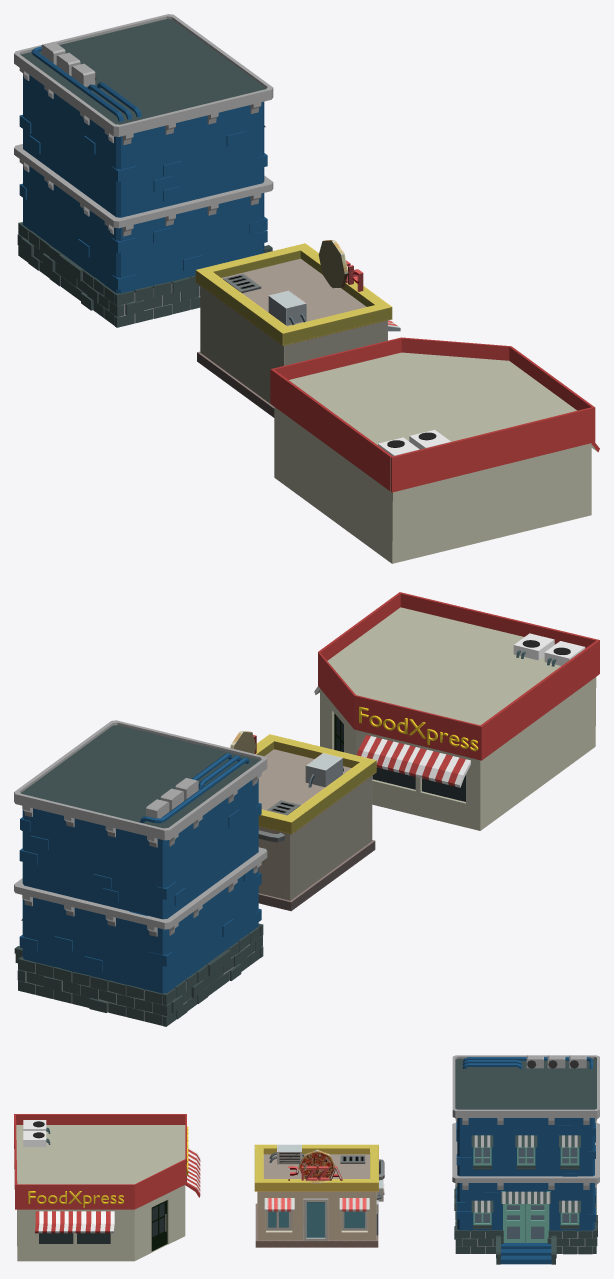
Rendered from Fastfood.fbx.
3 renders of one model, top to bottom at view 1: azimuth 30°, elevation 25°; view 2: azimuth 150°, elevation 25°; view 3: azimuth 270°, elevation 25°, orthographic. The views are drawn at different scales.
Visible parts, largest first — view 1: 2Story_Double_Mat_Cube.036, Cylinder.005, Object001; view 2: 2Story_Double_Mat_Cube.036, Cylinder.005, Object001, Text.007, Cube.013, Cube.007; view 3: 2Story_Double_Mat_Cube.036, Cylinder.005, Object001, Text.008, Cube.013.
Boxes of the visible parts, bbox=[...] form: 2Story_Double_Mat_Cube.036: bbox=[14, 14, 273, 327]; Cylinder.005: bbox=[270, 337, 599, 563]; Object001: bbox=[195, 240, 400, 417]; 2Story_Double_Mat_Cube.036: bbox=[14, 720, 267, 1026]; Cylinder.005: bbox=[314, 592, 599, 830]; Object001: bbox=[230, 731, 376, 911]; Text.007: bbox=[359, 706, 478, 751]; Cube.013: bbox=[513, 633, 554, 660]; Cube.007: bbox=[544, 641, 585, 666]; 2Story_Double_Mat_Cube.036: bbox=[452, 1055, 599, 1264]; Cylinder.005: bbox=[14, 1114, 200, 1261]; Object001: bbox=[254, 1144, 384, 1247]; Text.008: bbox=[28, 1191, 123, 1207]; Cube.013: bbox=[23, 1131, 50, 1146].
Bounding box in the file's own units: 669 × 619 × 2138.
Materials: 17 (1 with a texture image).
